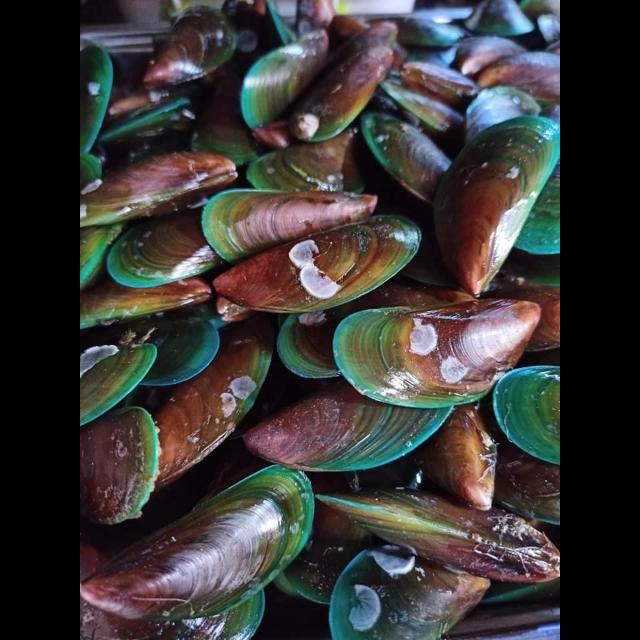left_over_food: (80, 466, 315, 621), (331, 298, 542, 409), (315, 490, 560, 584), (433, 117, 560, 298), (213, 215, 421, 313), (155, 320, 275, 489), (384, 34, 560, 139), (242, 398, 454, 473), (328, 545, 491, 640), (201, 191, 377, 262), (80, 152, 239, 229), (286, 47, 394, 143), (80, 407, 162, 526), (407, 403, 497, 511), (240, 30, 335, 130), (80, 320, 219, 388), (80, 590, 265, 640), (359, 111, 453, 208), (106, 208, 217, 289), (247, 125, 364, 192), (143, 9, 238, 91), (80, 277, 212, 330), (492, 365, 560, 467), (400, 0, 536, 50), (80, 343, 158, 427)
